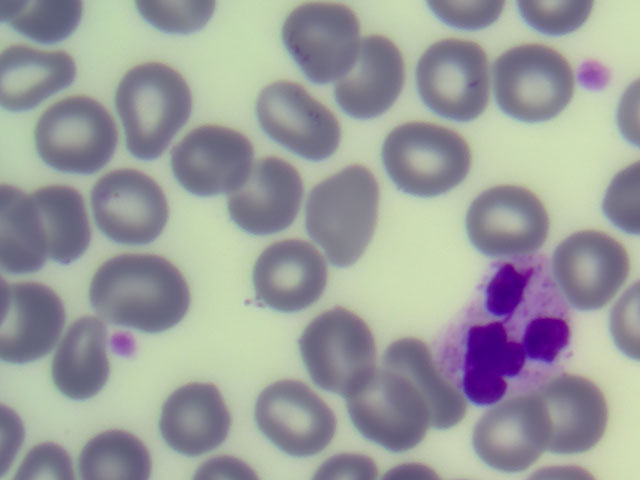Platelets: (575, 54, 615, 94), (108, 328, 139, 363)
RBC: (35, 88, 121, 182), (114, 60, 200, 154), (166, 111, 252, 205), (85, 166, 171, 260), (28, 178, 114, 272), (105, 240, 191, 334), (14, 310, 100, 404), (154, 371, 240, 465), (250, 365, 336, 459), (290, 305, 376, 399), (244, 231, 330, 325), (298, 153, 384, 247), (231, 152, 317, 246), (257, 58, 343, 152), (336, 34, 422, 128), (384, 109, 470, 203), (402, 35, 488, 129), (488, 38, 574, 132), (460, 163, 546, 257), (550, 219, 636, 313), (339, 368, 425, 462), (469, 386, 555, 480), (536, 372, 622, 466), (275, 1, 361, 94), (1, 26, 86, 120)
WBC: (438, 263, 584, 400)
